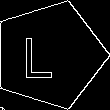L_N: (33, 30, 65, 80)
